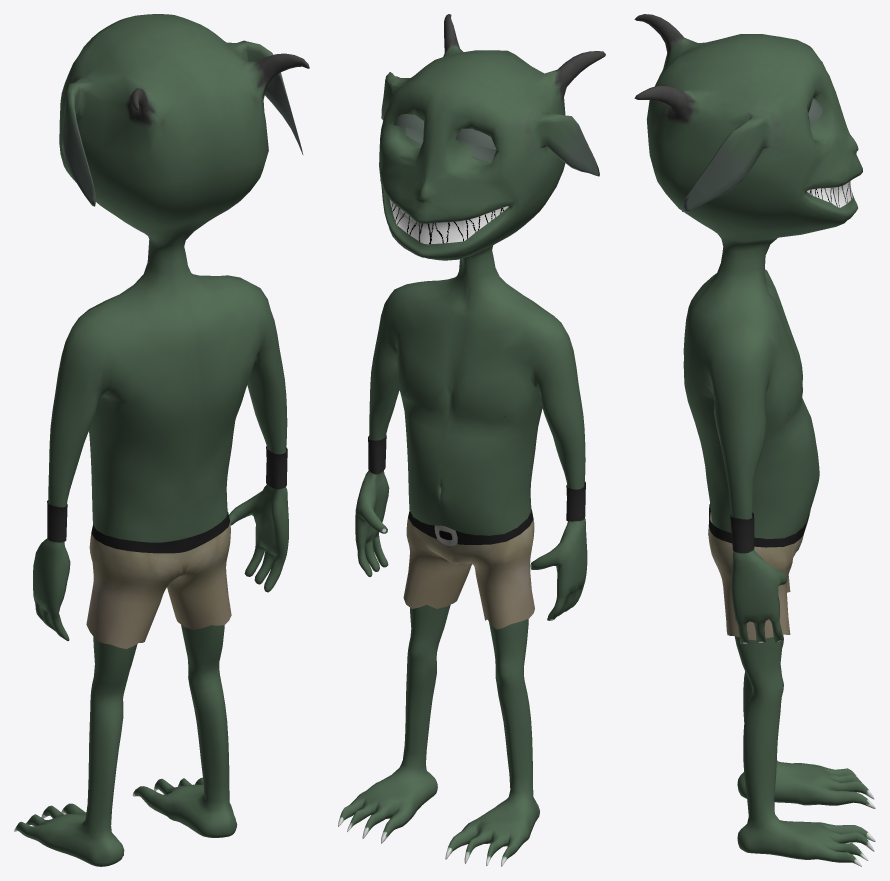
File: lwjglcharactergoblin17_000005.obj
The picture shows the model from 3 angles, left to right: view 1: azimuth 30°, elevation 25°; view 2: azimuth 150°, elevation 25°; view 3: azimuth 270°, elevation 25°; orthographic projection. The views are drawn at different scales.
Visible parts, largest first — view 1: Cube.002; view 2: Cube.002; view 3: Cube.002.
Part boxes in pixels (left/top/right/bottom): Cube.002: left=14, top=14, right=309, bottom=866; Cube.002: left=338, top=14, right=605, bottom=866; Cube.002: left=634, top=14, right=875, bottom=866.
Bounding box in the file's own units: 1.17 × 3.82 × 1.06.
